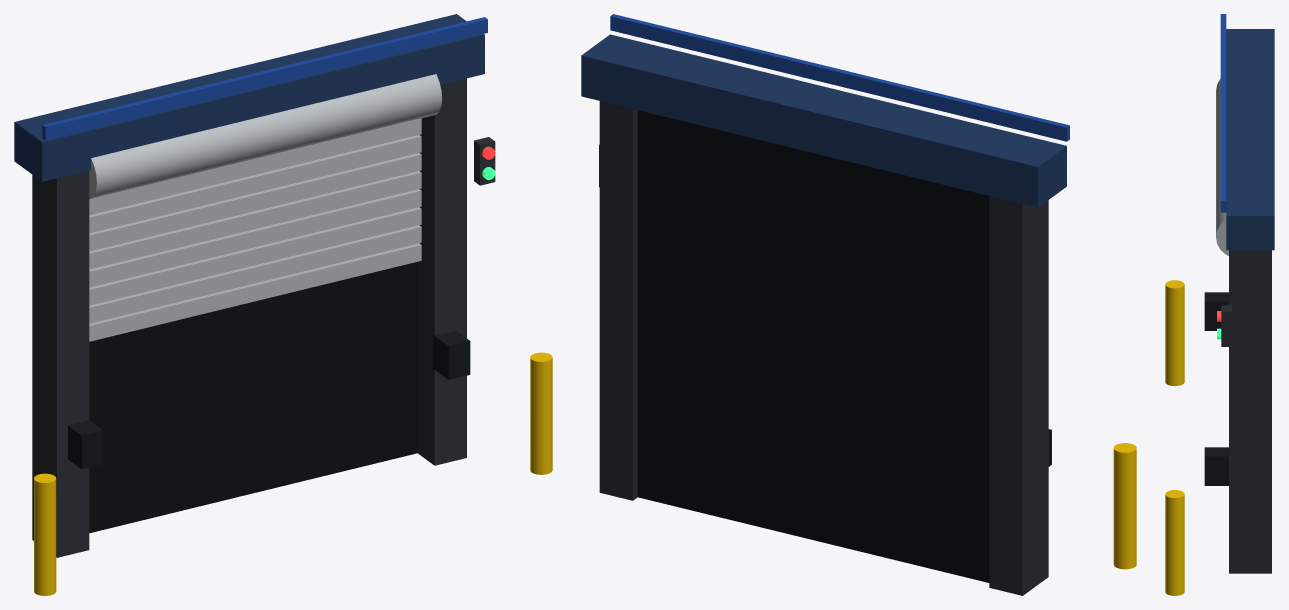
File: Dock door.glb
The picture shows the model from 3 angles, left to right: view 1: azimuth 30°, elevation 25°; view 2: azimuth 150°, elevation 25°; view 3: azimuth 270°, elevation 25°; orthographic projection. The views are drawn at different scales.
Parts seen in each view (by area): view 1: Asset; view 2: Asset; view 3: Asset.
Part boxes in pixels (x1,y1,x2,y2): Asset: [14, 14, 552, 595]; Asset: [581, 14, 1136, 595]; Asset: [1165, 14, 1274, 595].
Bounding box in the file's own units: 4.78 × 3.88 × 1.01.
